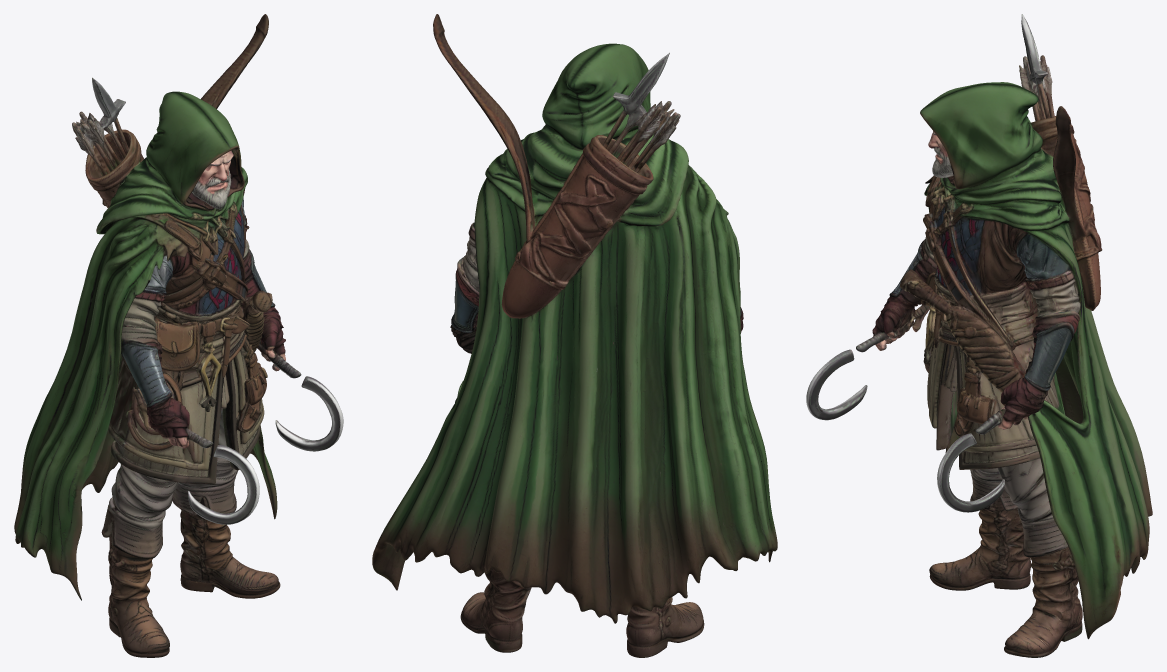
File: raven.glb
3 renders of one model, left to right at view 1: azimuth 30°, elevation 25°; view 2: azimuth 150°, elevation 25°; view 3: azimuth 270°, elevation 25°, orthographic. The views are drawn at different scales.
Bounding box in the file's own units: 0.086 × 0.15 × 0.0843.
1 material, 1 textured.
